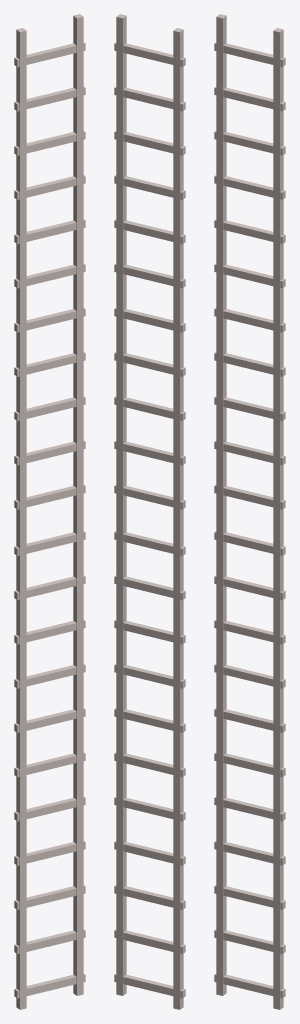
The model's file is Ladder.fbx.
3 views of the same model, side by side, from view 1: azimuth 30°, elevation 25°; view 2: azimuth 150°, elevation 25°; view 3: azimuth 330°, elevation 25° (orthographic).
Visible parts, largest first — view 1: Ladder; view 2: Ladder; view 3: Ladder.
Boxes of the visible parts, <box> form: Ladder: <box>14,14,85,1009</box>; Ladder: <box>114,14,185,1009</box>; Ladder: <box>214,14,285,1009</box>.
Bounding box in the file's own units: 66.93 × 917 × 6.56.
